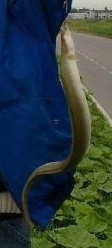Anguilla anguilla: (20, 20, 92, 228)
